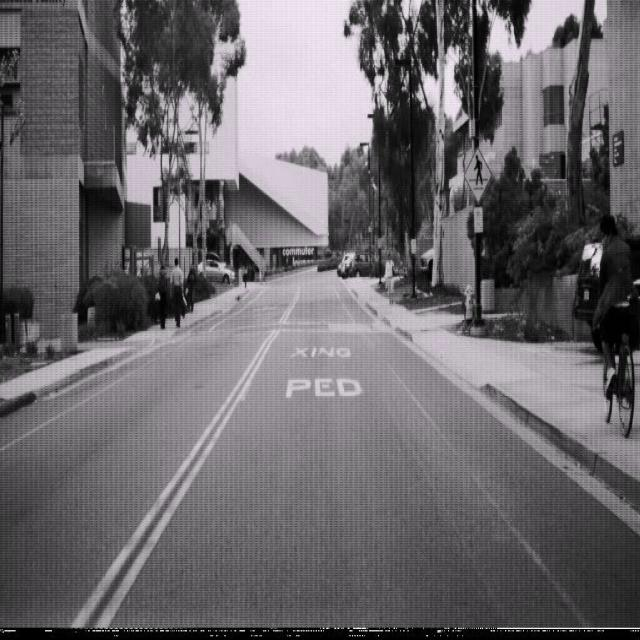pedestrianCrossing: (463, 144, 492, 202)
